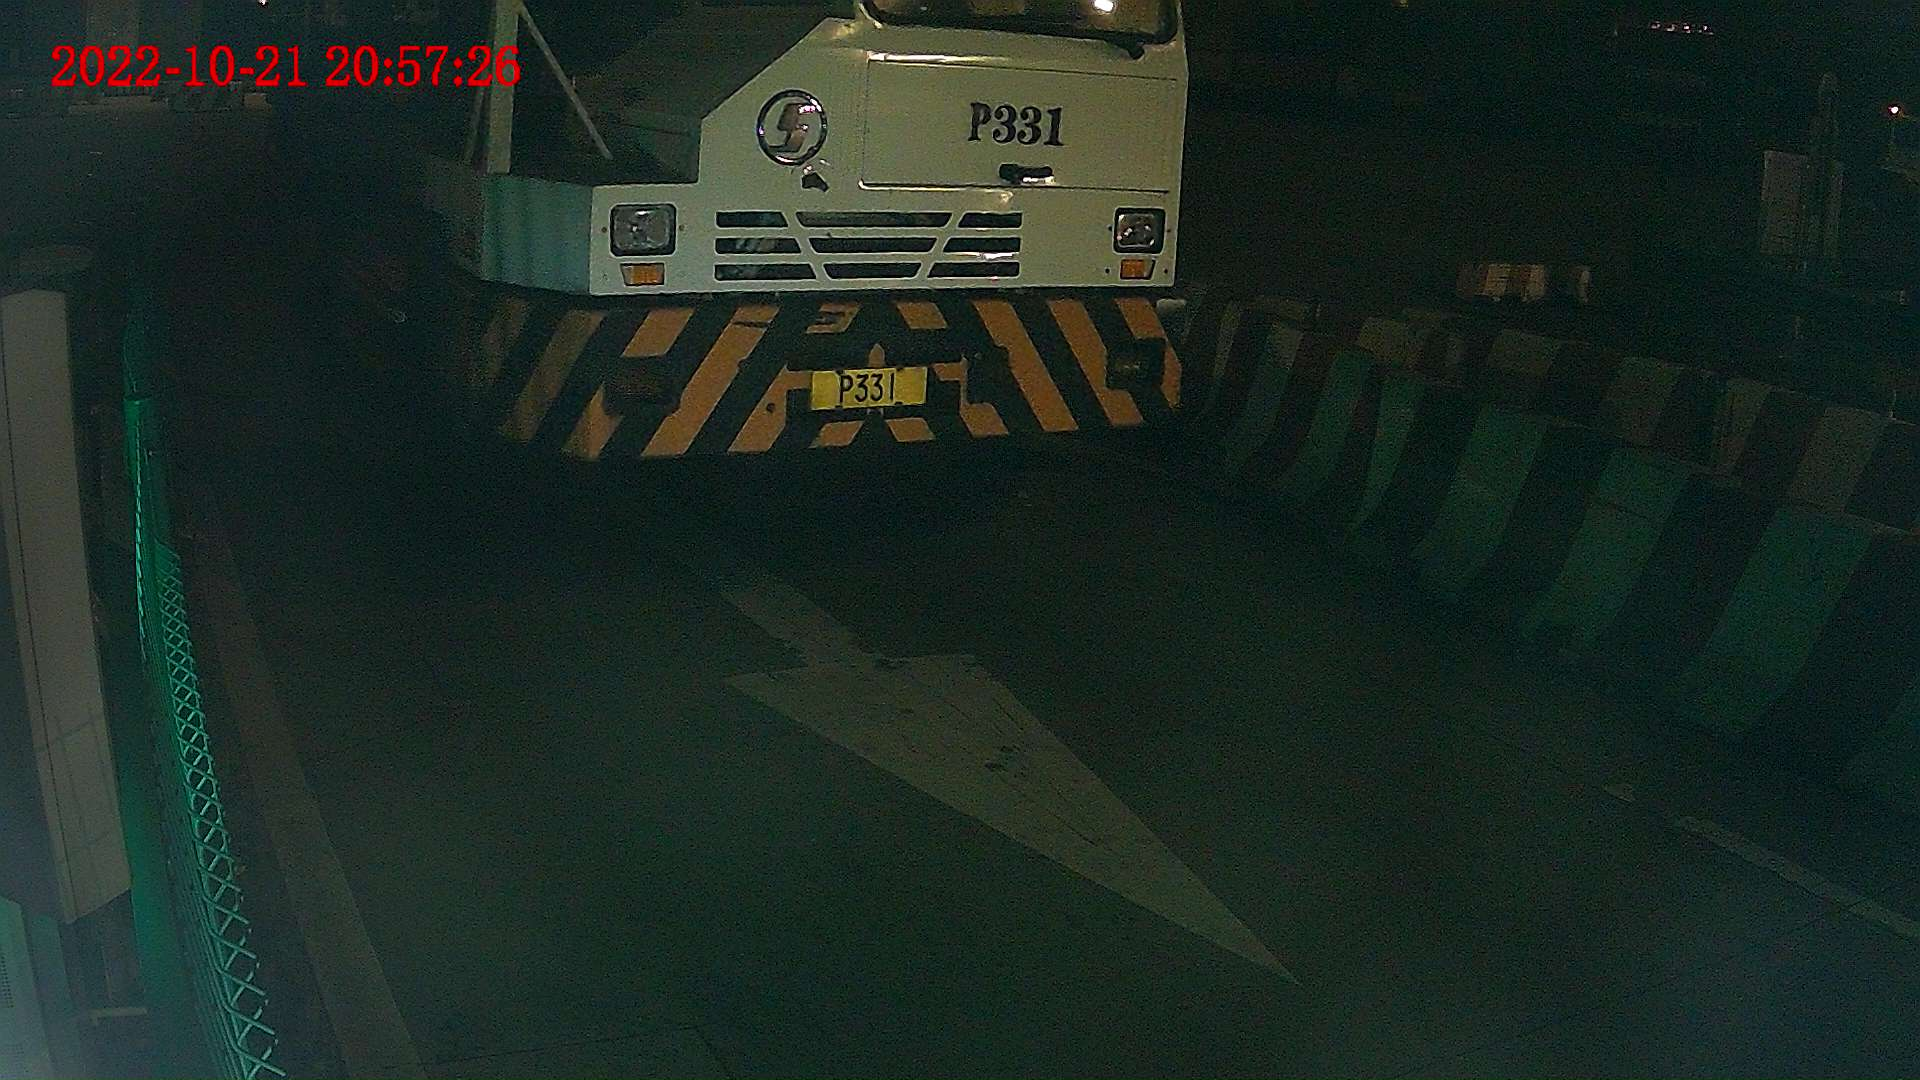head: (347, 1, 1197, 482)
plate: (808, 367, 934, 401)
